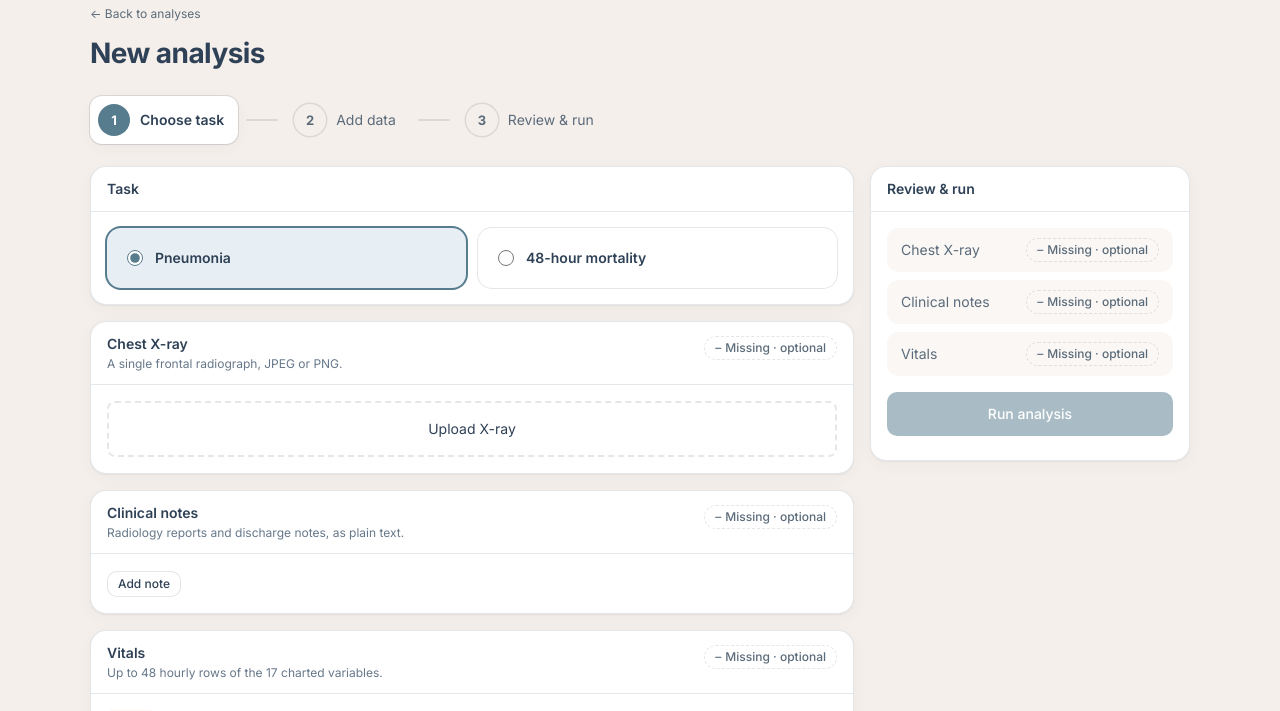
Test: AnalyzePage › keeps every input after a failed submit and shows the API error
Click the radio button labelled "48-hour mortality". click: (506, 258)
box: 498,250 -> 514,266
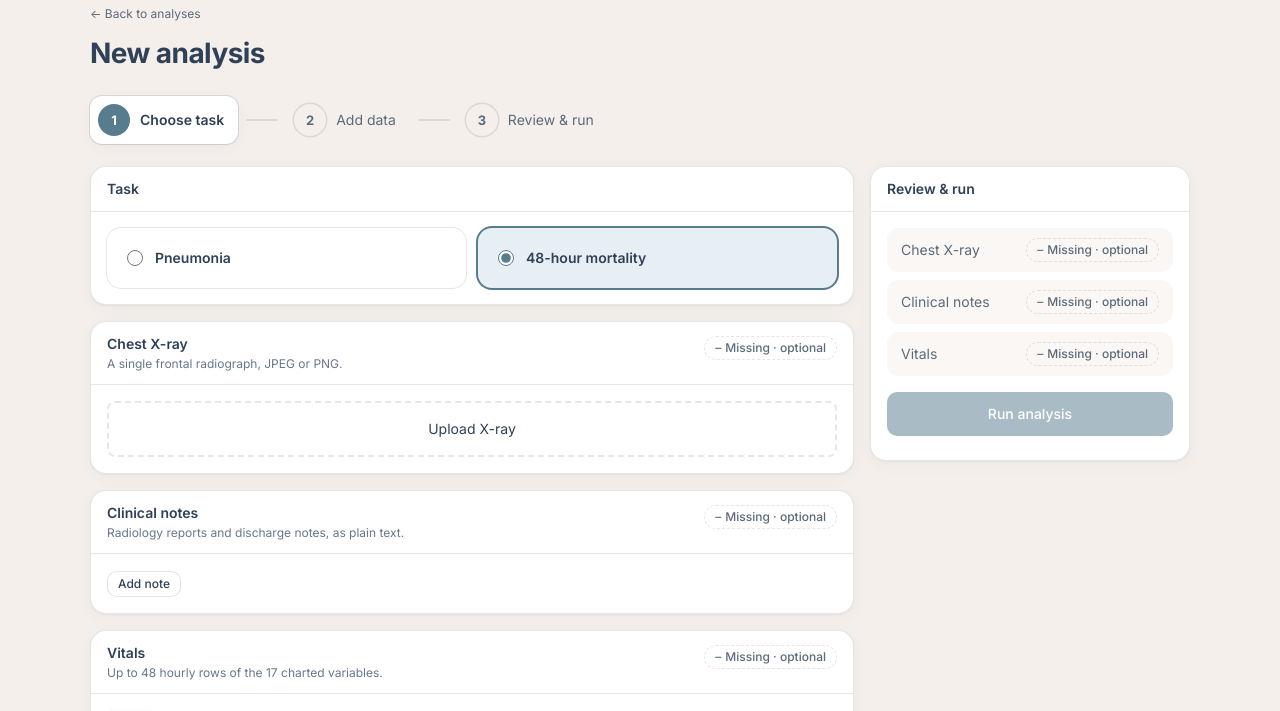
Click the button "Add note". click: (144, 584)
box: 107,571 -> 181,597
(page scrolled)
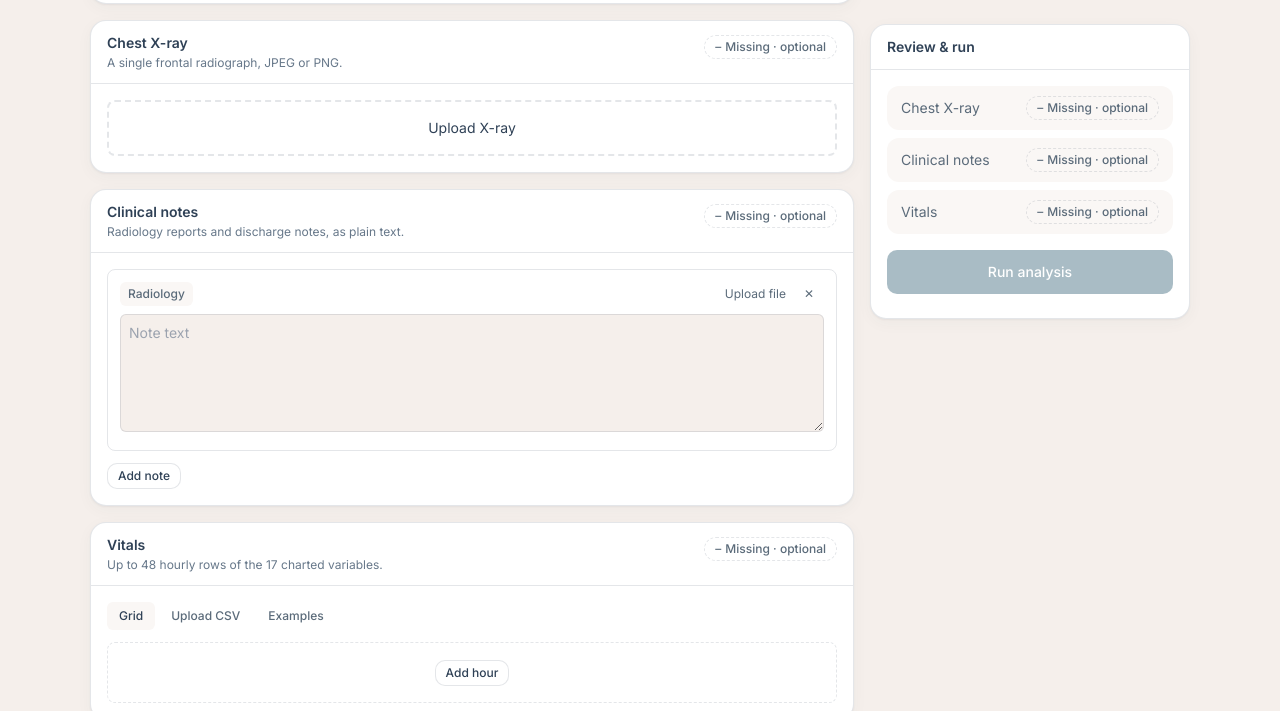
Type "Synthetic radiology note: no acute change." into the text box named "Note 1 text". click: (472, 373)
box: 120,314 -> 824,432
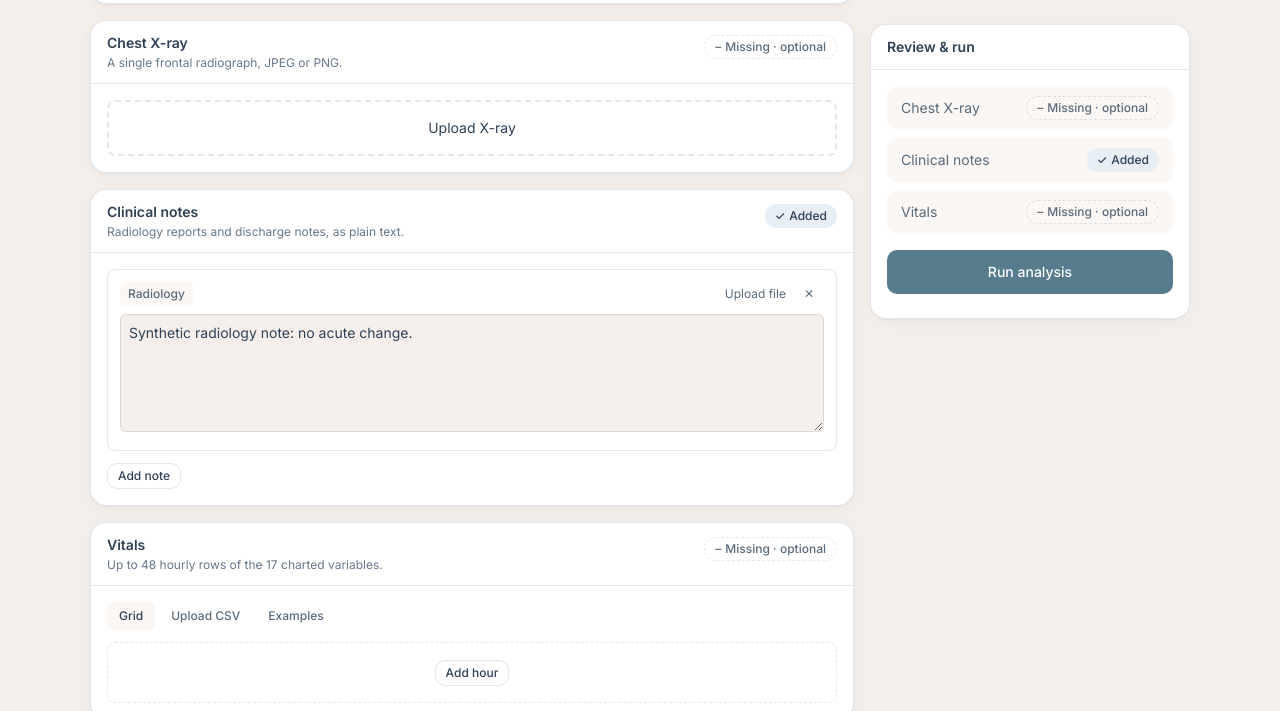
Click the button "Run analysis". click: (1030, 272)
box: 887,250 -> 1173,294
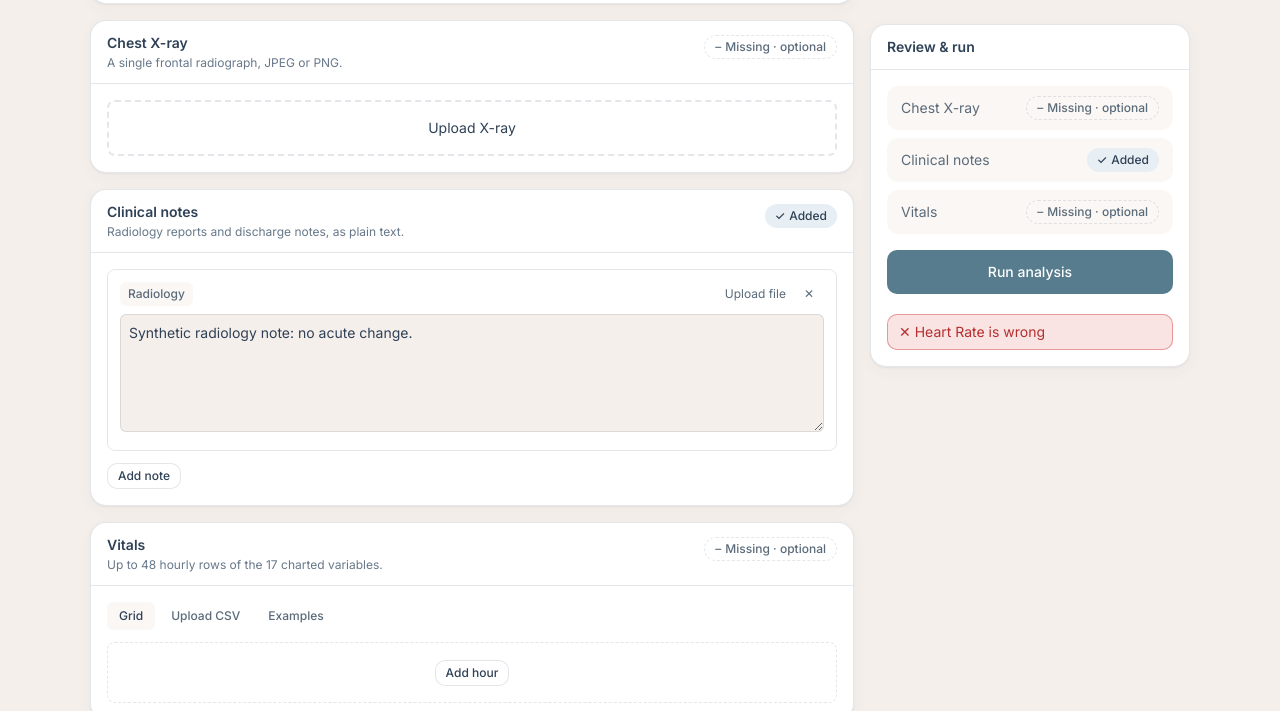
Expected: the text with test id "note-1-type" reads "Radiology", 128,286 -> 185,301
Expected: the button "Run analysis" is enabled, 887,250 -> 1173,294
Expected: the message shows "Heart Rate is wrong", 915,323 -> 1045,340
